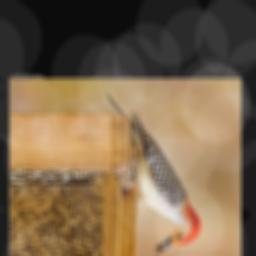Woodpecker: (105, 93, 202, 254)
